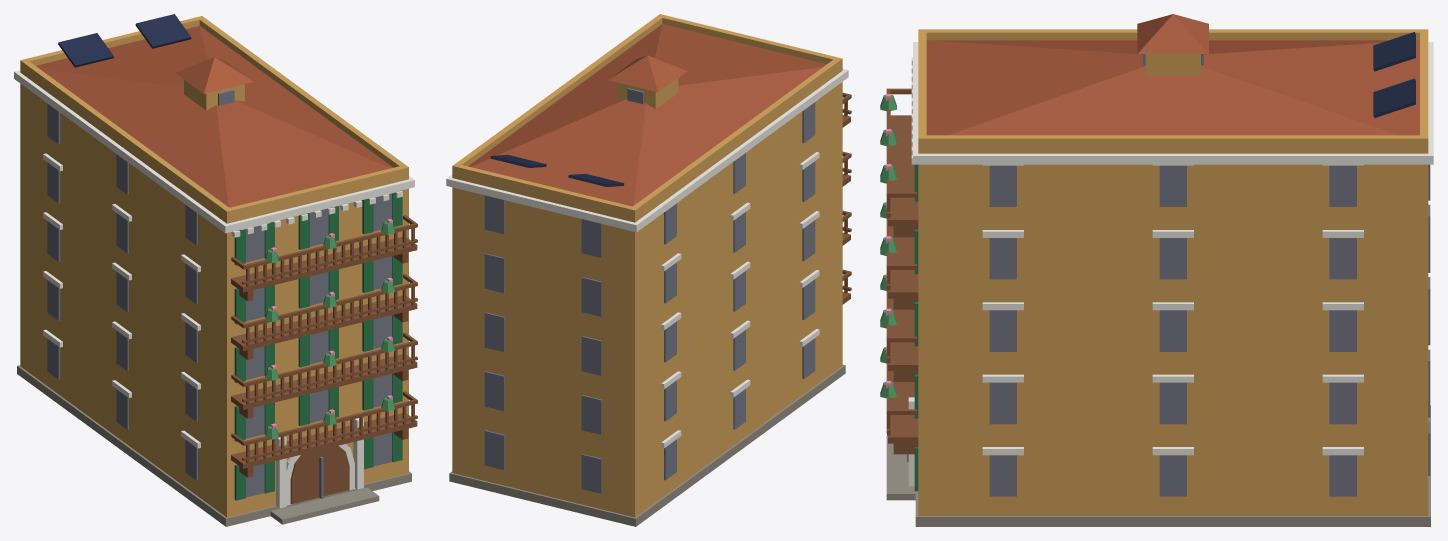
Rendered from house-1x2-5f-colonial-a-solar.glb.
3 views of the same model, side by side, from view 1: azimuth 30°, elevation 25°; view 2: azimuth 150°, elevation 25°; view 3: azimuth 270°, elevation 25° (orthographic). The views are drawn at different scales.
Visible parts, largest first — view 1: house-1x2-5f-colonial-a-solar; view 2: house-1x2-5f-colonial-a-solar; view 3: house-1x2-5f-colonial-a-solar.
Boxes of the visible parts, x1=… form: house-1x2-5f-colonial-a-solar: x1=14, y1=14, x2=417, y2=526; house-1x2-5f-colonial-a-solar: x1=446, y1=14, x2=851, y2=526; house-1x2-5f-colonial-a-solar: x1=880, y1=14, x2=1433, y2=526.
Size of the model in its own units: 0.98 by 1.83 by 2.01.
1 material, 1 textured.
